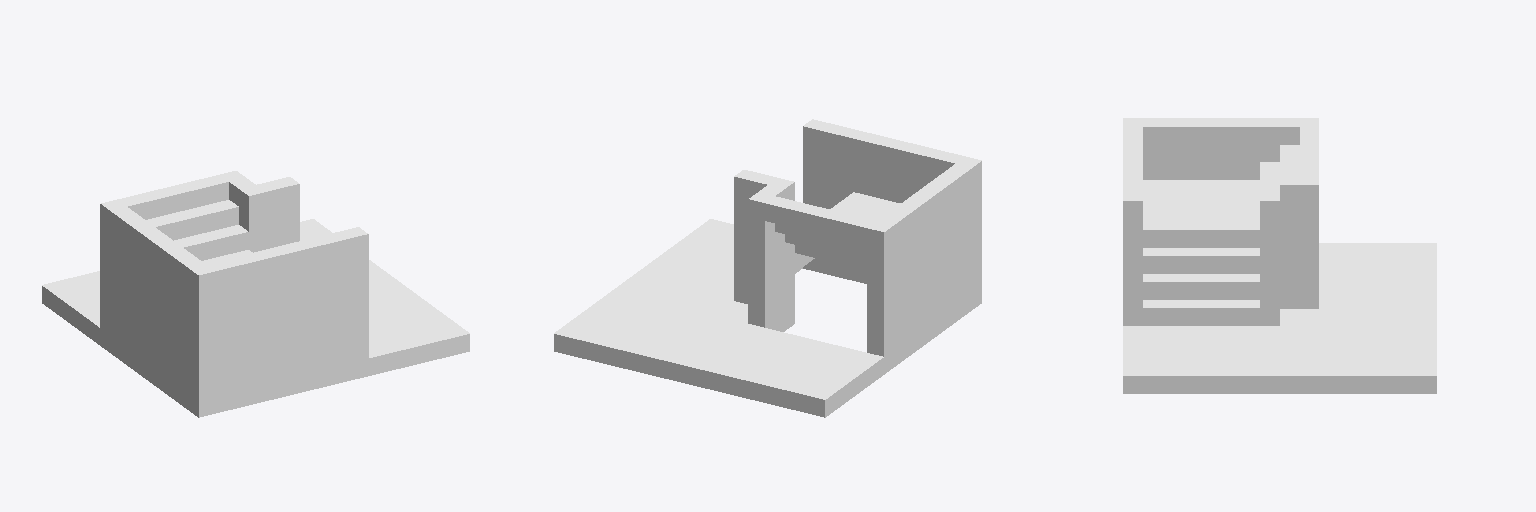
The model's file is towar-7.obj.
3 views of the same model, side by side, from view 1: azimuth 30°, elevation 25°; view 2: azimuth 150°, elevation 25°; view 3: azimuth 270°, elevation 25° (orthographic).
Parts seen in each view (by area): view 1: towar-7; view 2: towar-7; view 3: towar-7.
Part boxes in pixels (x1,y1,x2,y2): towar-7: (42,171,469,417); towar-7: (554,119,981,417); towar-7: (1123,118,1436,393).
Bounding box in the file's own units: 16 × 8 × 16.